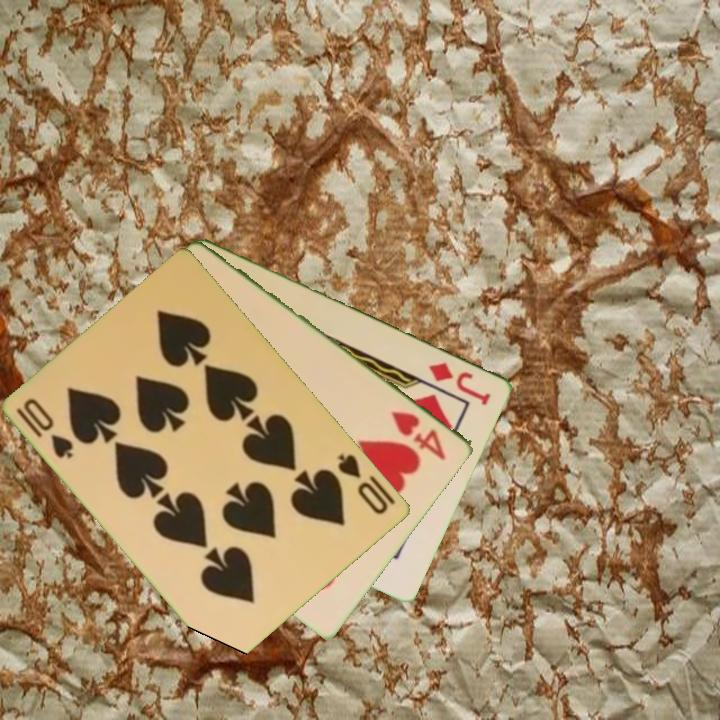10s: (13, 394, 77, 462), (335, 450, 392, 518)
4h: (387, 407, 449, 463)
Jd: (425, 358, 494, 409)
